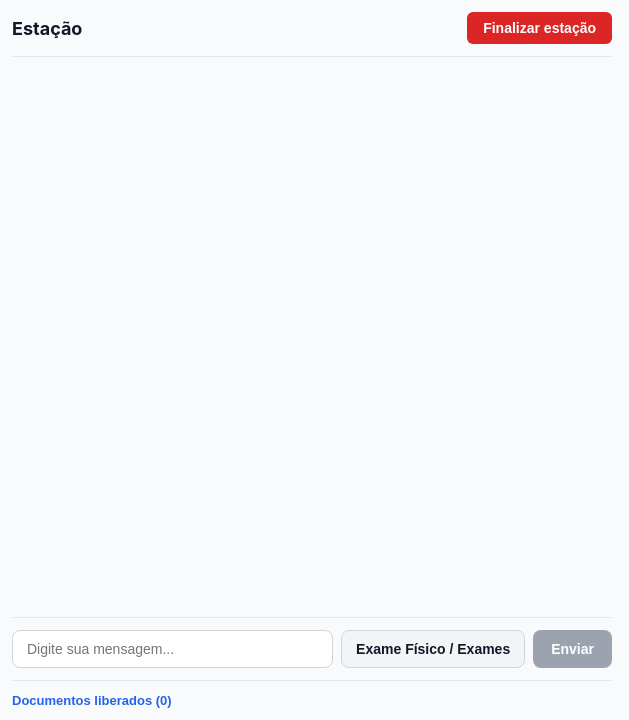
StationScreen › handles null reply (API failure) without crashing and displays recoverable error banner
Type "Olá" into the field with test id "message-input" at coordinates (173, 649), box [12, 630, 333, 668]
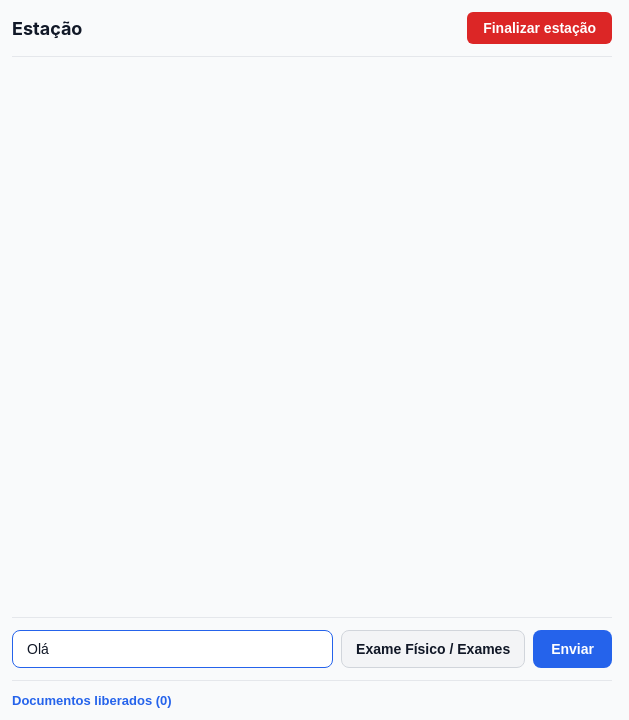
Click the button with test id "send-button" at coordinates (573, 649), box [533, 630, 612, 668]
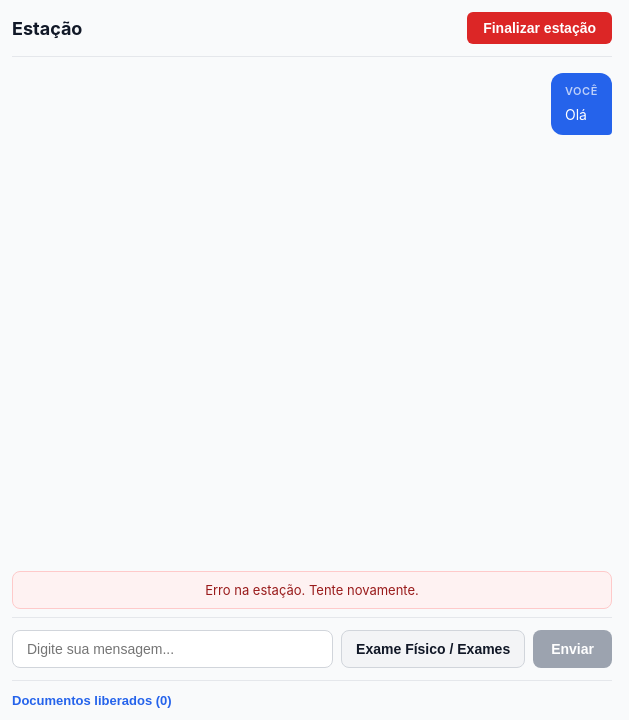
Check: the field with test id "message-input" is enabled, box [12, 630, 333, 668]
Check: the text "Olá" is shown, box [565, 106, 587, 122]
Check: the text "Erro na estação. Tente novamente." is shown, box [12, 571, 612, 609]
